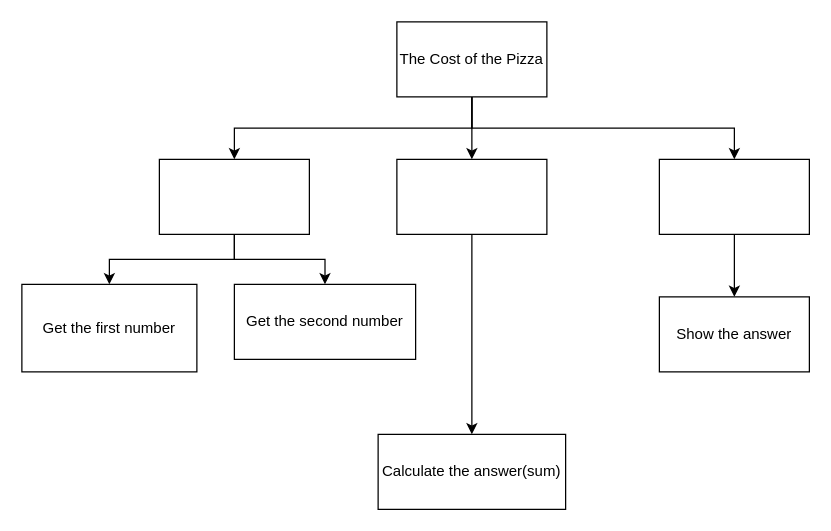
The diagram is 831 pixels wide and 531 high, and some of its shapes have lost their labels. The shapes that lost their labels are listed below. From the top down, each one's box as (x1, y1, x2, y2) in pixels, then its label:
(158, 158, 309, 234): Input
(396, 158, 547, 234): Process
(658, 158, 809, 234): Output
